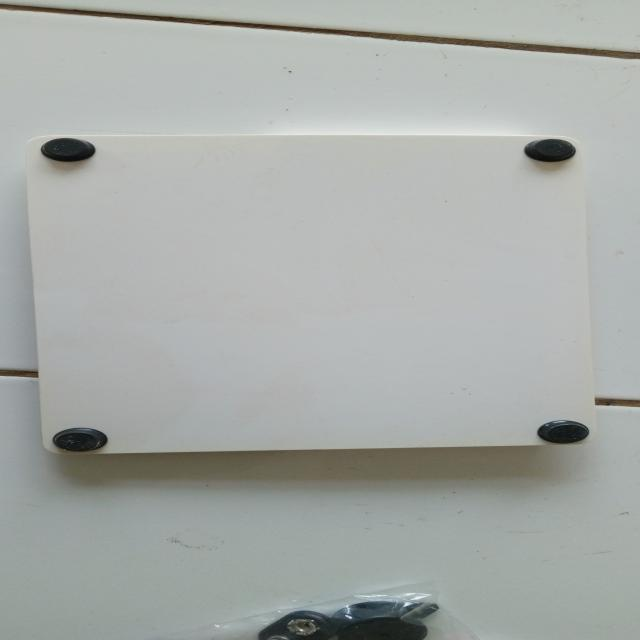Set of Resistances: (4, 122, 632, 463)
